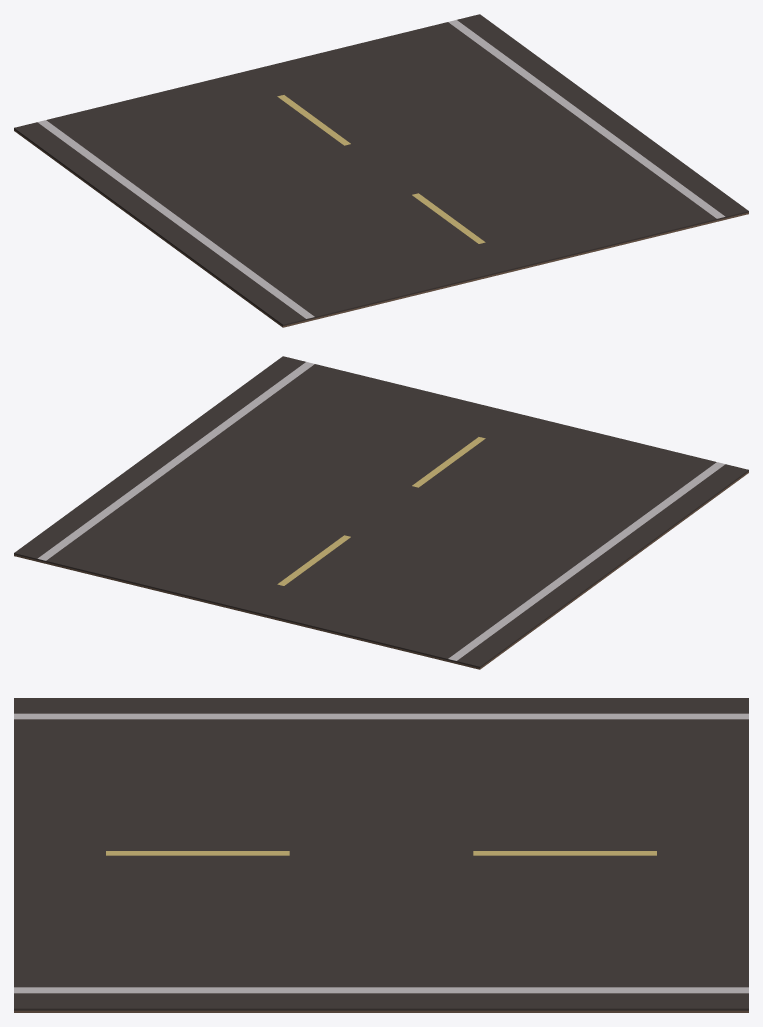
Rendered from highway-tile-3a705e.glb.
The picture shows the model from 3 angles, top to bottom: view 1: azimuth 30°, elevation 25°; view 2: azimuth 150°, elevation 25°; view 3: azimuth 270°, elevation 25°; orthographic projection. The views are drawn at different scales.
Parts seen in each view (by area): view 1: highway-tile-body; view 2: highway-tile-body; view 3: highway-tile-body.
Part boxes in pixels (x1,y1,x2,y2): highway-tile-body: (14,14,748,327); highway-tile-body: (14,356,748,669); highway-tile-body: (14,698,748,1012).
Size of the model in its own units: 8 by 0.05 by 8.
